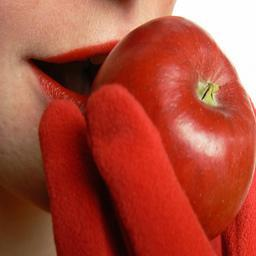apple: (89, 13, 256, 239)
